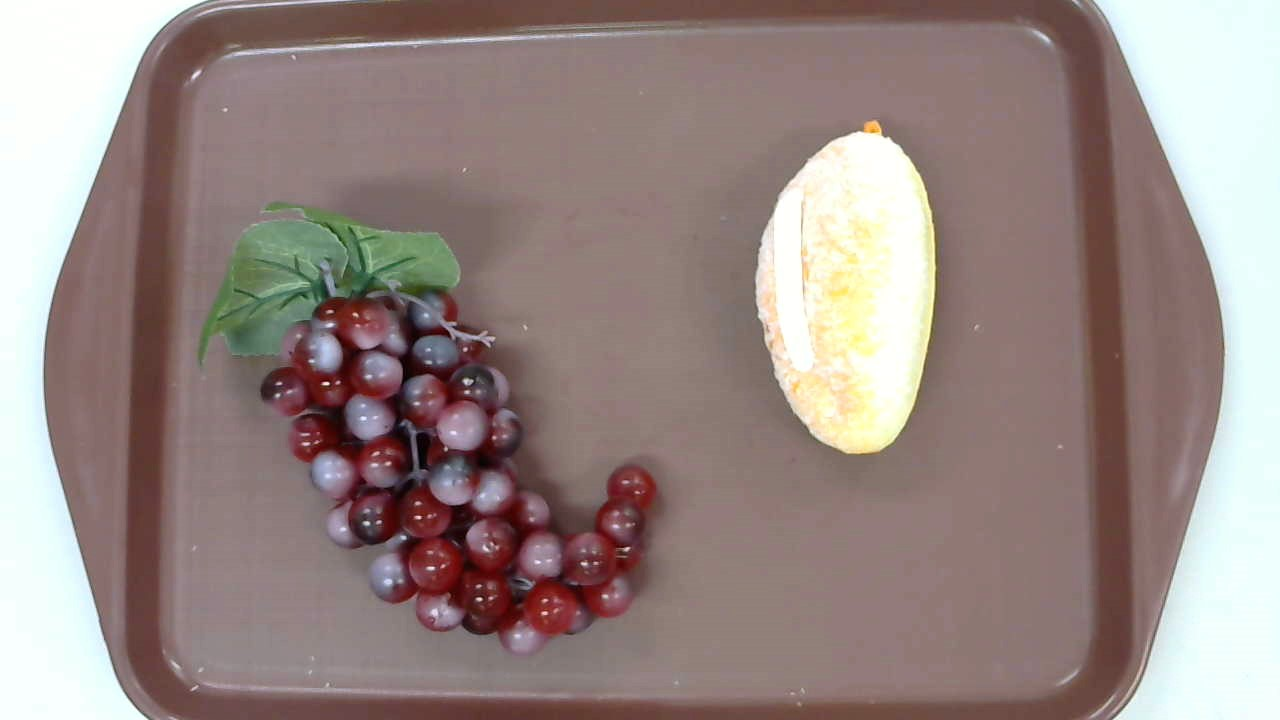coconut: (754, 120, 935, 454)
grape: (197, 199, 657, 657)
